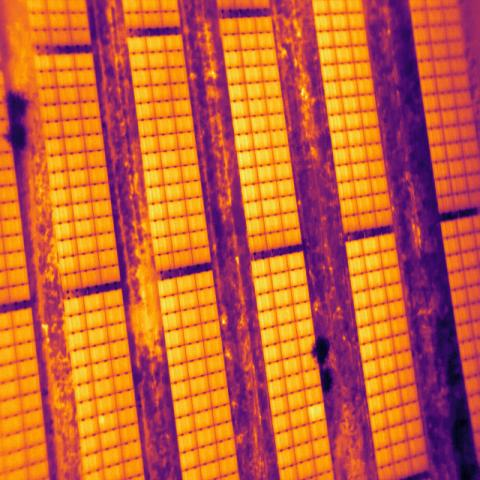fault: (307, 402, 325, 425)
